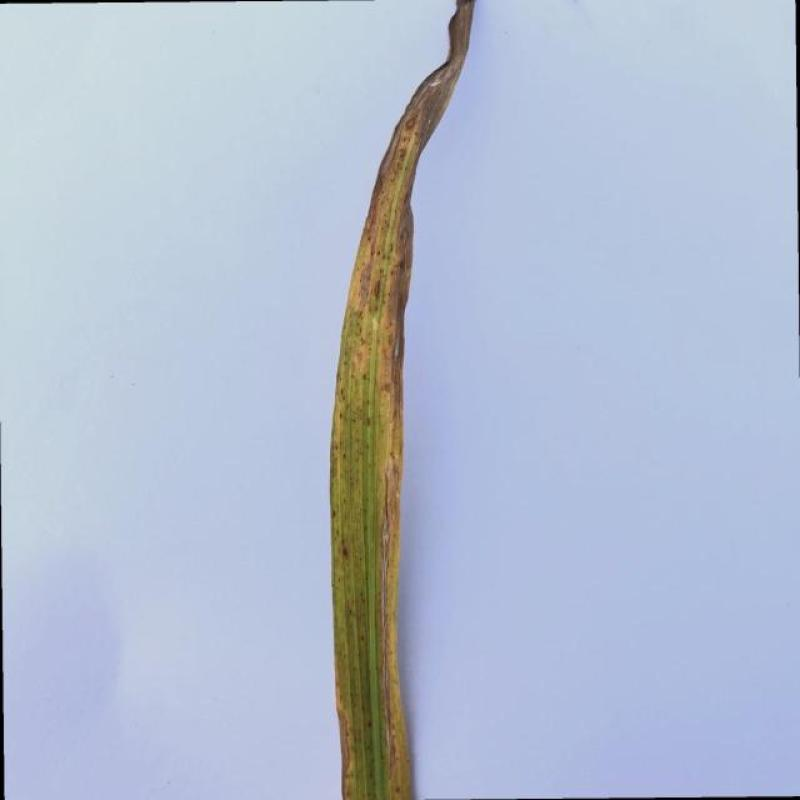Rice Tungro: (328, 110, 418, 800)
